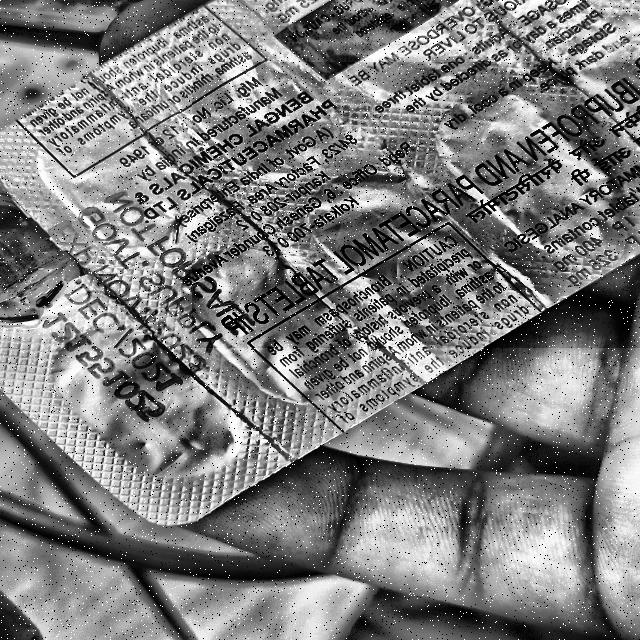IBUPROFEN AND PARACETAMOL TABLETS: (192, 62, 640, 348)
